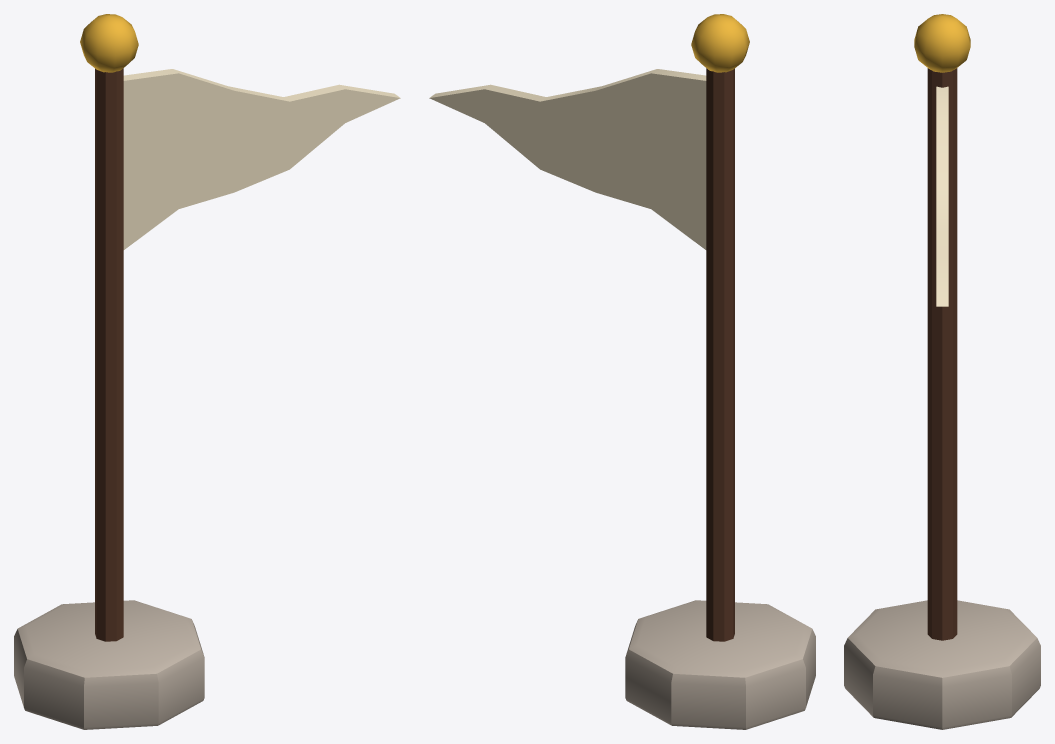
Rendered from dash_flag.glb.
3 renders of one model, left to right at view 1: azimuth 30°, elevation 25°; view 2: azimuth 150°, elevation 25°; view 3: azimuth 270°, elevation 25°, orthographic.
Visible parts, largest first — view 1: Pole, Flag; view 2: Pole, Flag; view 3: Pole, Flag.
Part boxes in pixels (x1,y1,x2,y2): Pole: (14, 14, 204, 729); Flag: (123, 69, 400, 249); Pole: (625, 14, 815, 729); Flag: (429, 69, 706, 249); Pole: (844, 14, 1040, 729); Flag: (936, 86, 948, 306).
Size of the model in its own units: 1.75 by 3.02 by 0.8.
